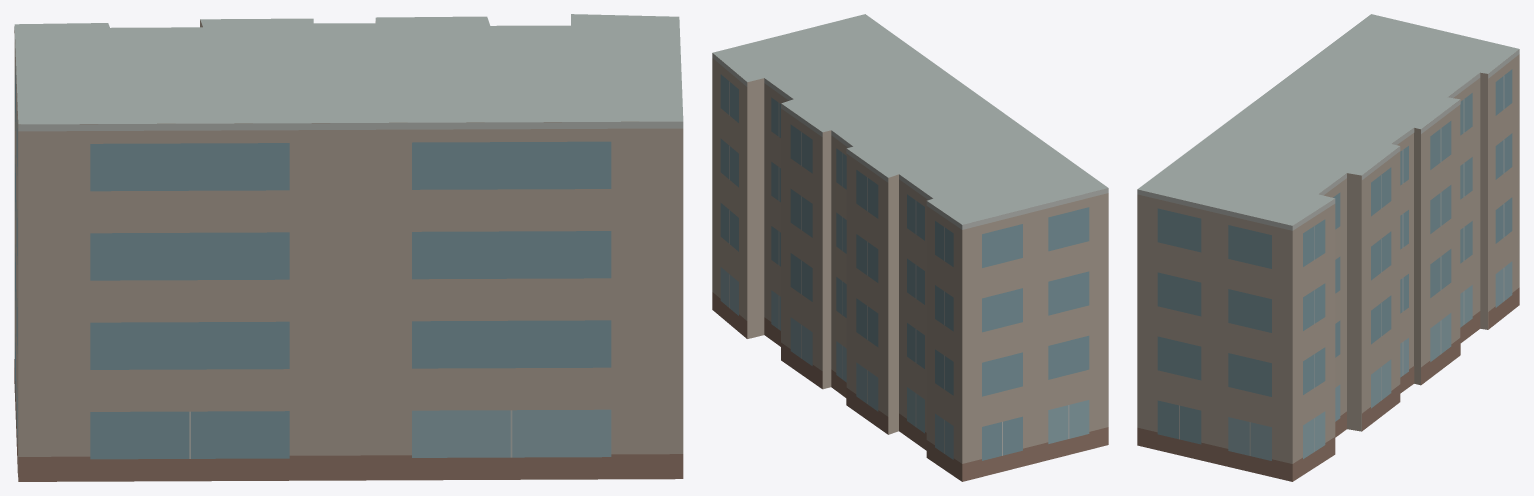
The model's file is survey-upis-32673588.glb.
3 views of the same model, side by side, from view 1: azimuth 30°, elevation 25°; view 2: azimuth 150°, elevation 25°; view 3: azimuth 270°, elevation 25° (orthographic). The views are drawn at different scales.
Visible parts, largest first — view 1: survey-upis-32673588.tmp; view 2: survey-upis-32673588.tmp; view 3: survey-upis-32673588.tmp.
Part boxes in pixels (x1,y1,x2,y2): survey-upis-32673588.tmp: (14,14,683,481); survey-upis-32673588.tmp: (712,14,1108,481); survey-upis-32673588.tmp: (1137,14,1519,481).
Size of the model in its own units: 22.19 by 12.5 by 16.93.
